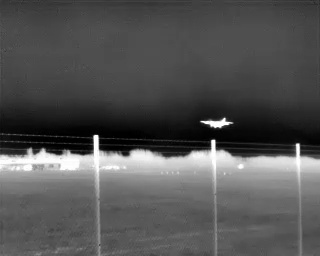AIRPLANE: (198, 115, 236, 131)
